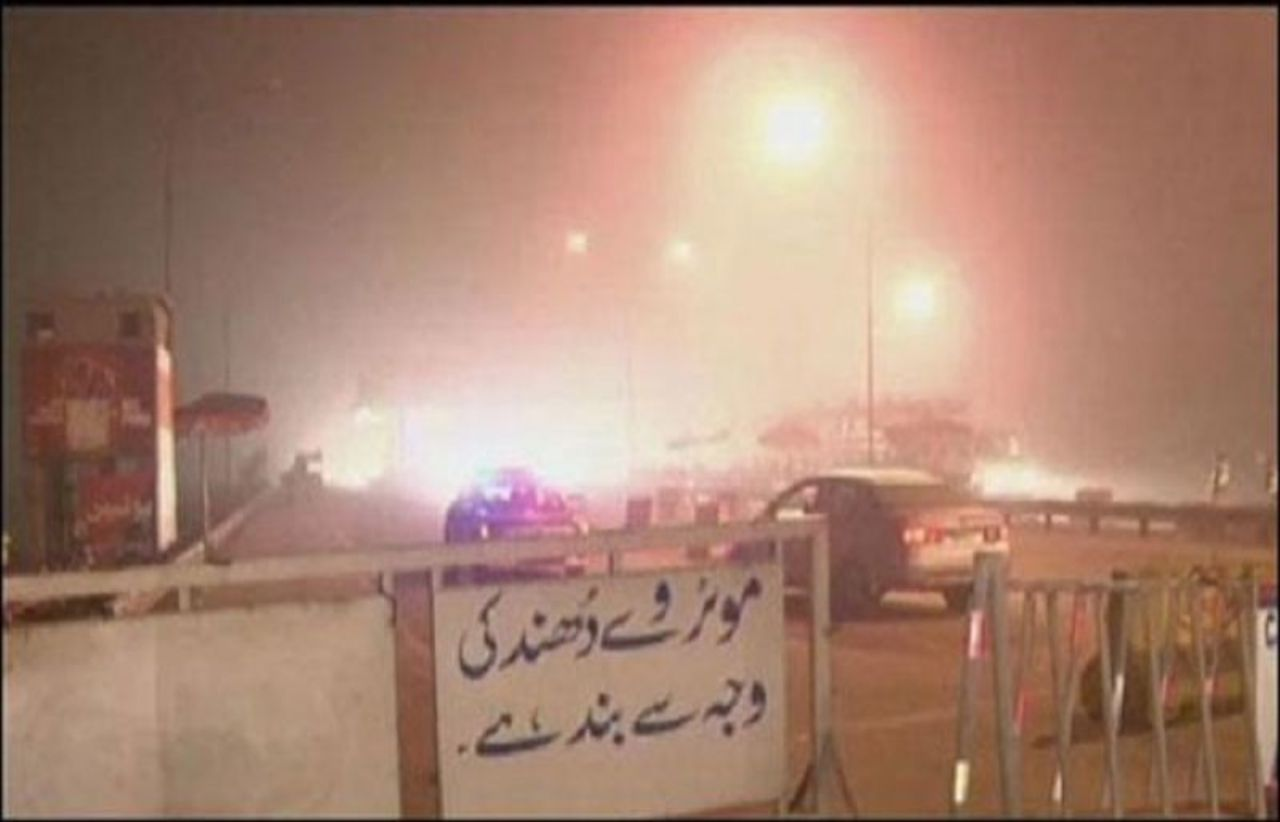car: (746, 470, 1010, 614), (442, 475, 589, 557)
